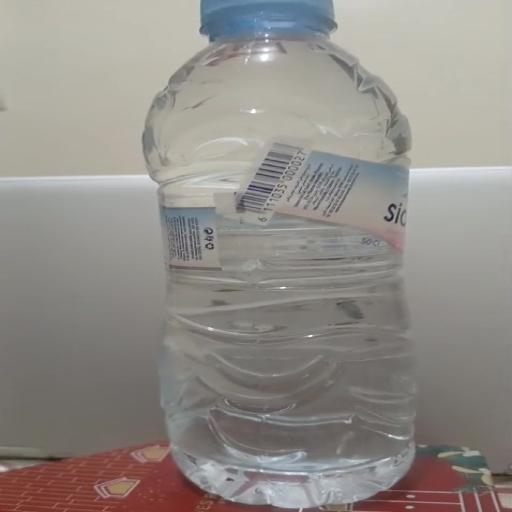bouteille conformite: (103, 0, 461, 512)
